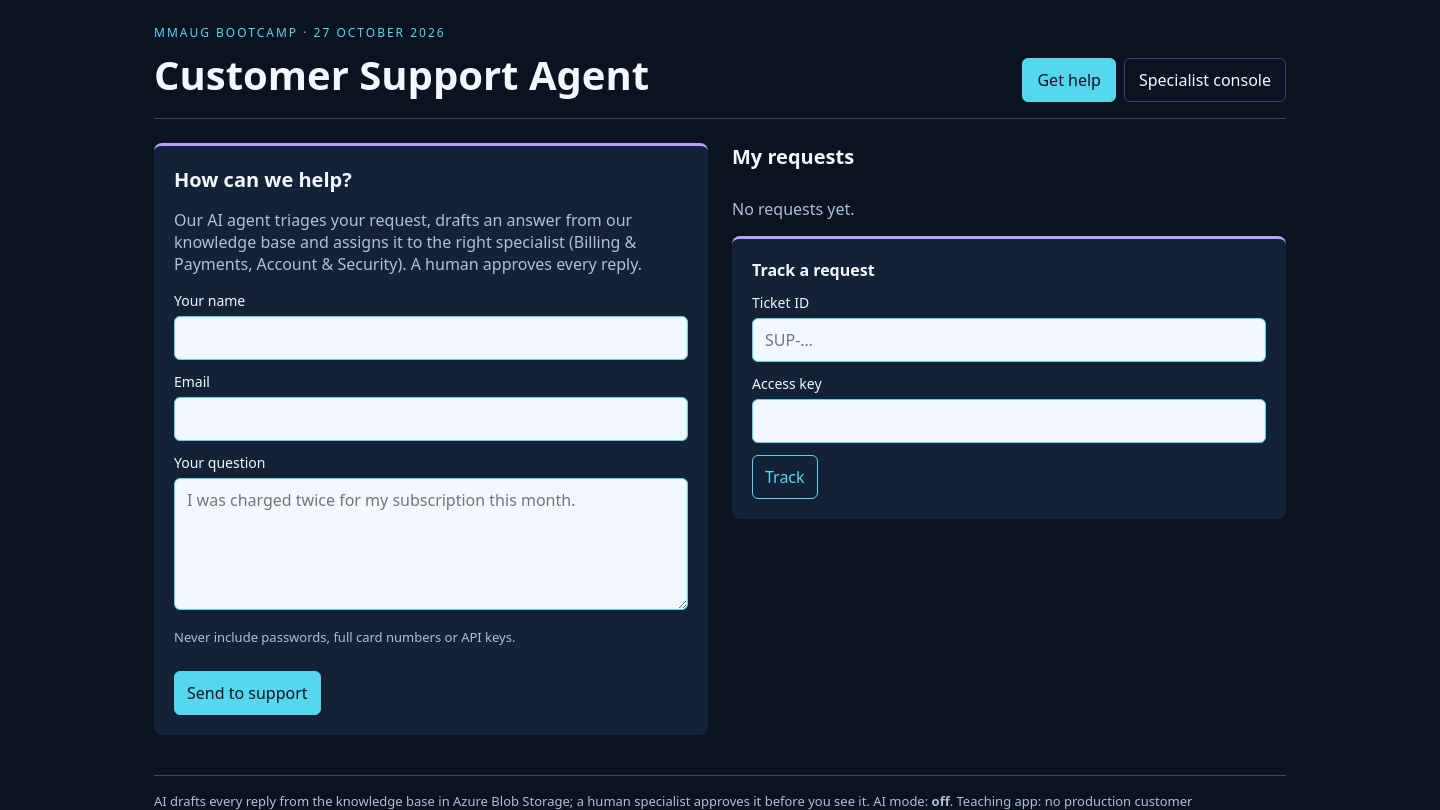
Scenario: customer portal › shows validation errors from the API
Type "A" into the field labelled "Your name".
click(431, 338); type("A")  # box [174, 316, 688, 360]
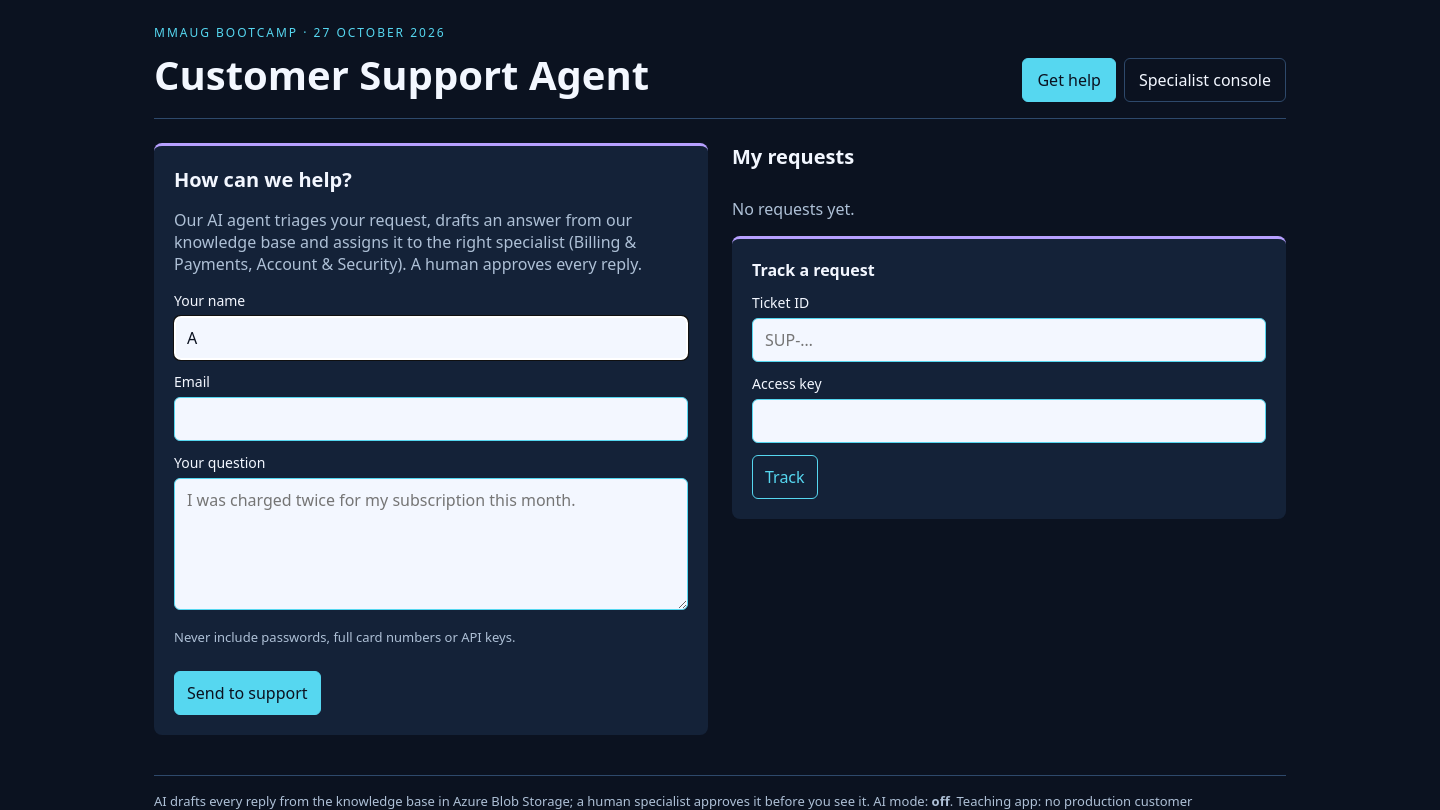
Type "a@b.co" into the field labelled "Email".
click(431, 419); type("a@b.co")  # box [174, 397, 688, 441]
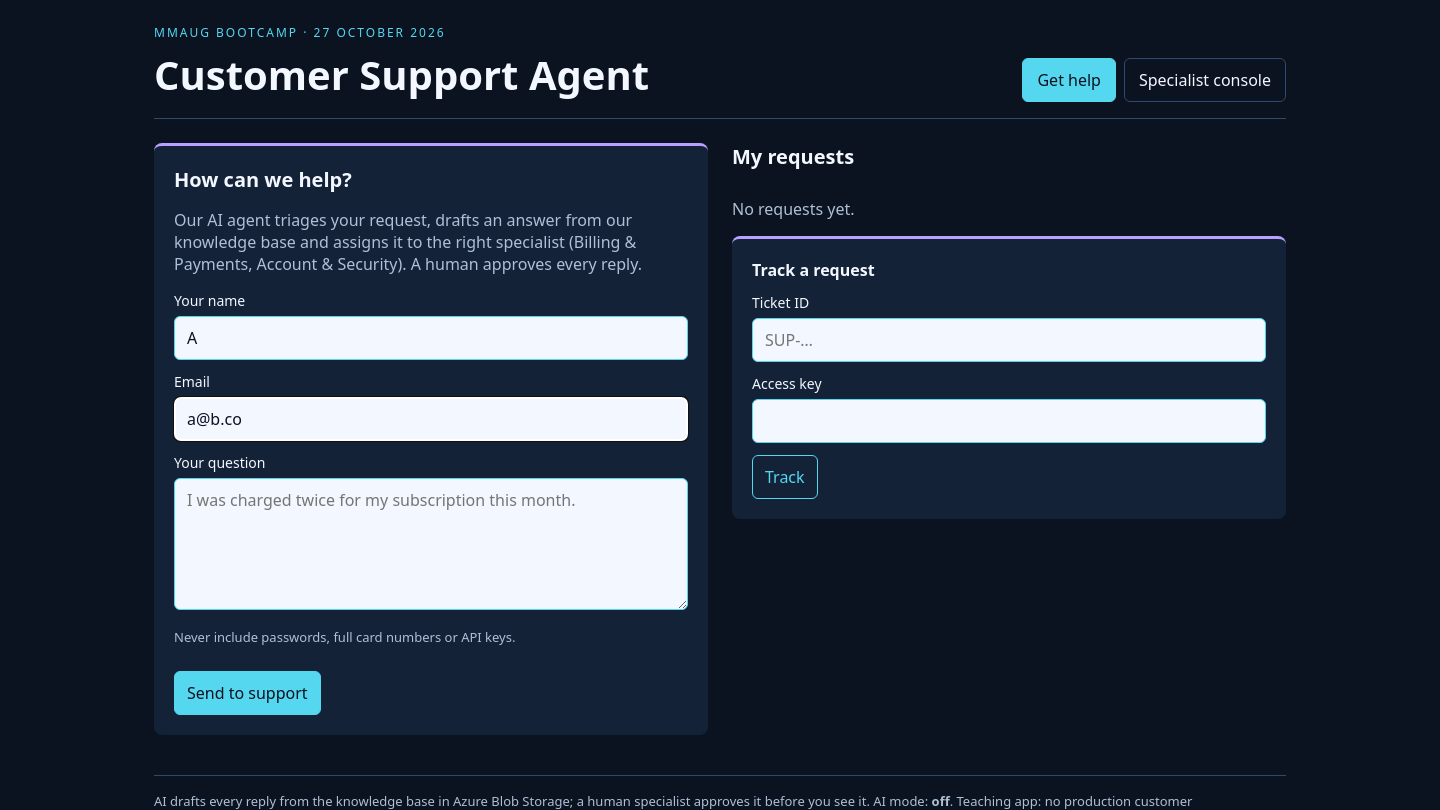
Type "Long enough question" into the text box labelled "Your question".
click(431, 544); type("Long enough question")  # box [174, 478, 688, 610]
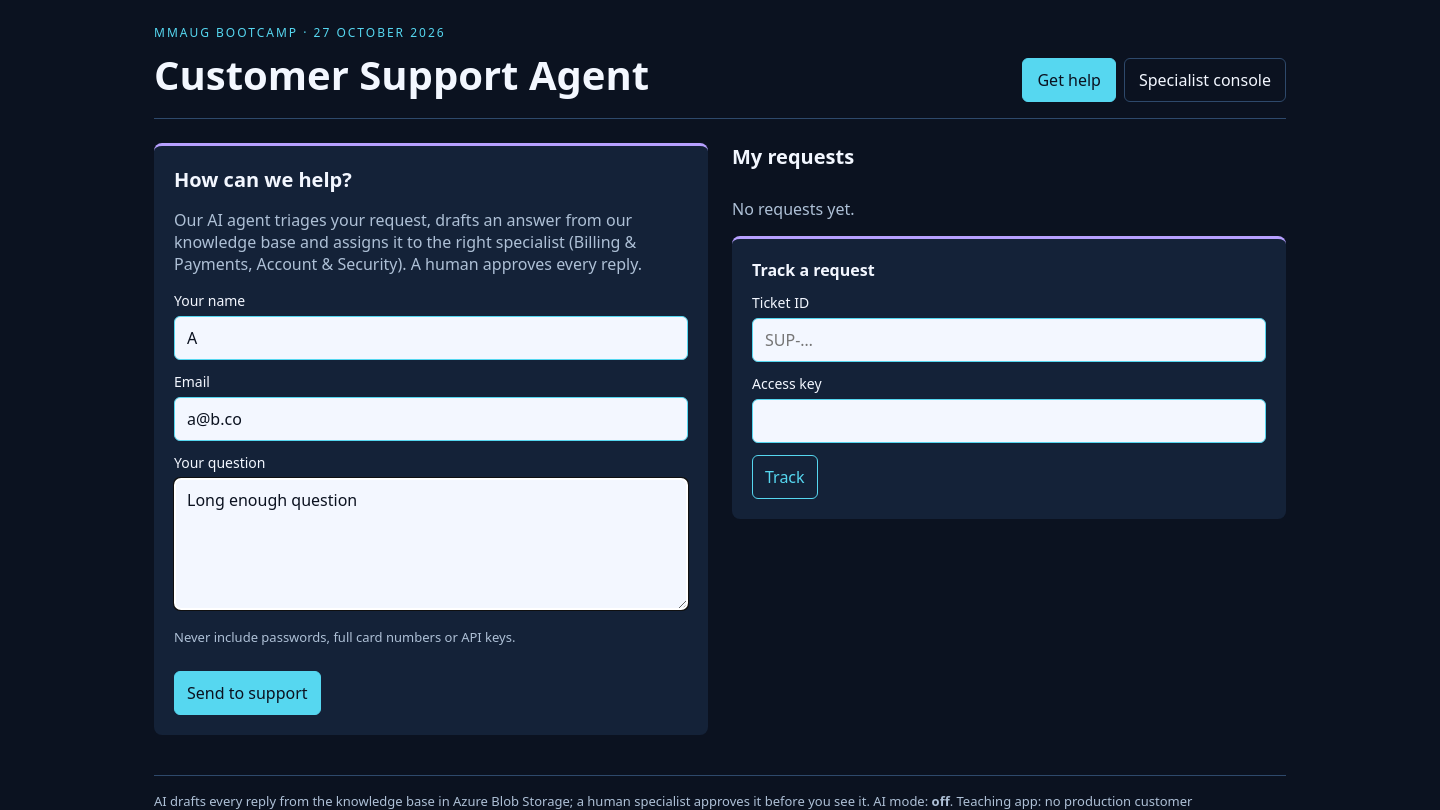
Click the button "Send to support".
click(247, 693)  # box [174, 671, 321, 715]
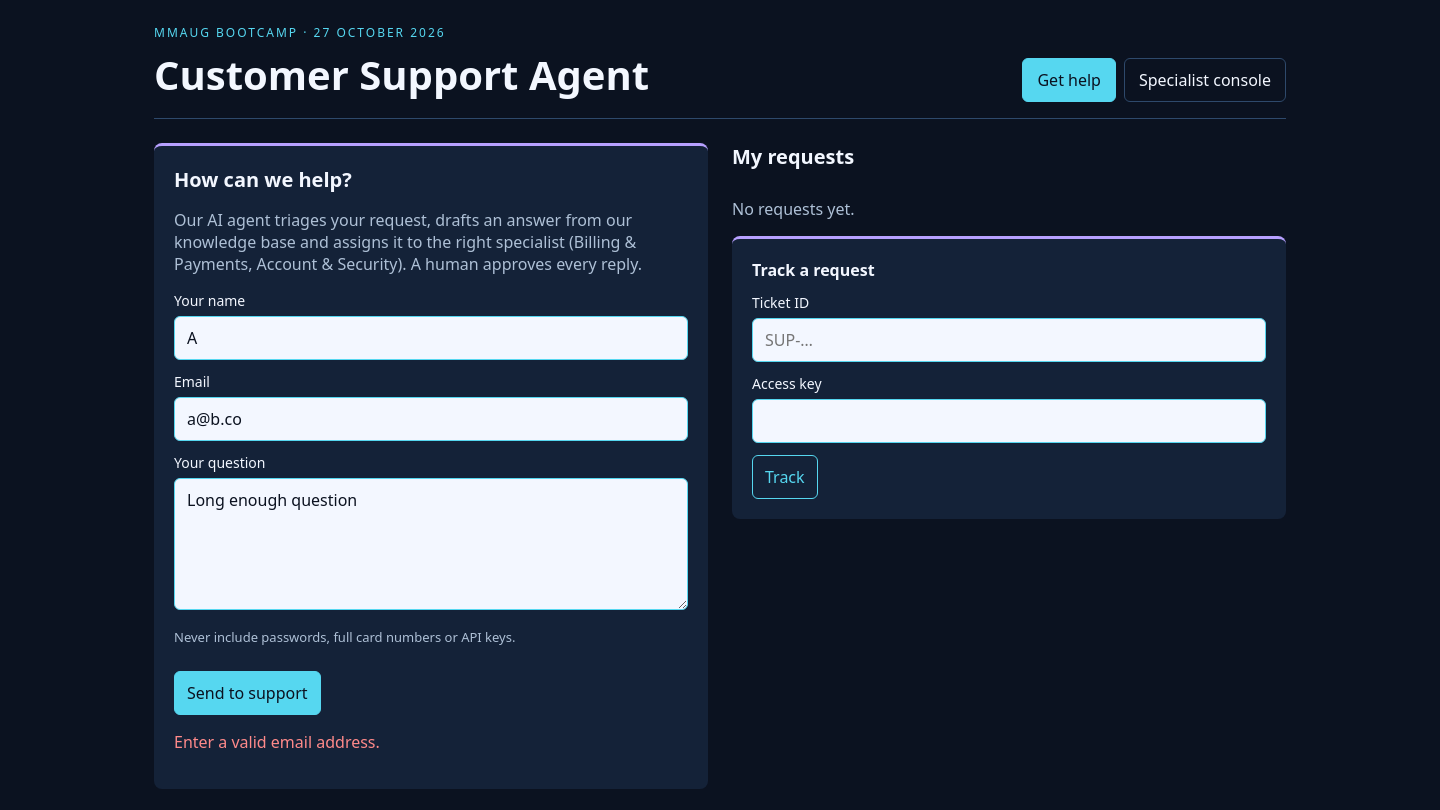
Expected: the message reads "Enter a valid email address.", [174, 731, 380, 753]
